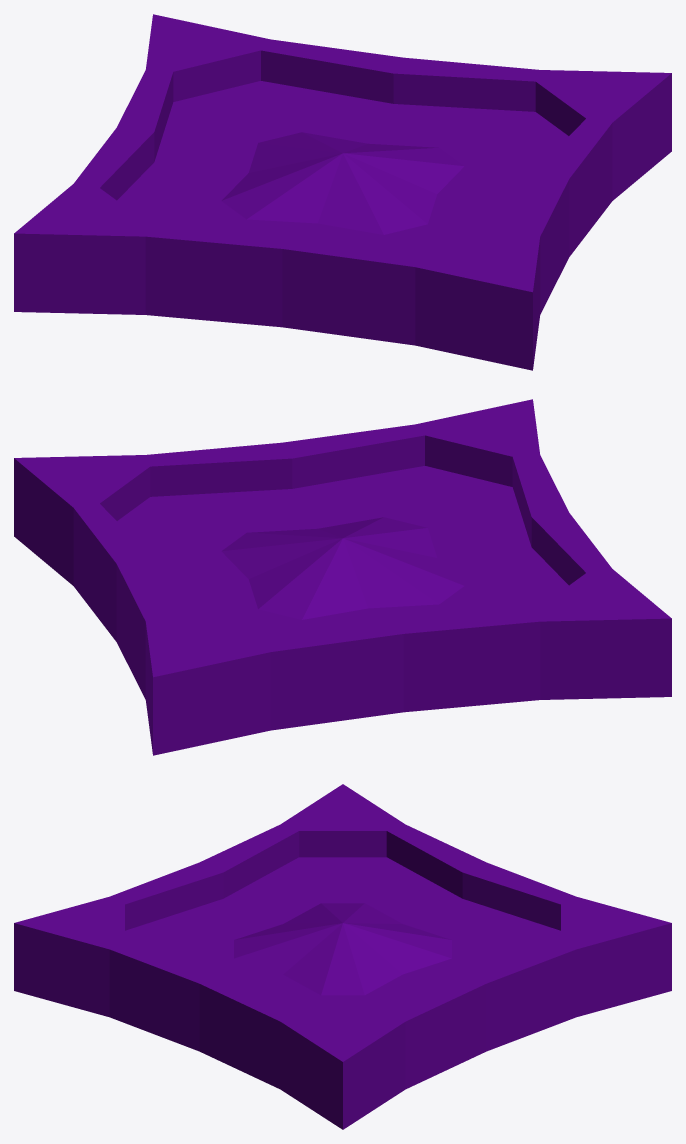
File: 2Disc.fbx
The picture shows the model from 3 angles, top to bottom: view 1: azimuth 30°, elevation 25°; view 2: azimuth 150°, elevation 25°; view 3: azimuth 270°, elevation 25°; orthographic projection. The views are drawn at different scales.
Visible parts, largest first — view 1: 2Disc; view 2: 2Disc; view 3: 2Disc.
Part boxes in pixels (box(x1,y1,x2,y2)): 2Disc: box(14, 14, 671, 370); 2Disc: box(14, 399, 671, 755); 2Disc: box(14, 784, 671, 1129).
Size of the model in its own units: 681 by 77.54 by 681.
